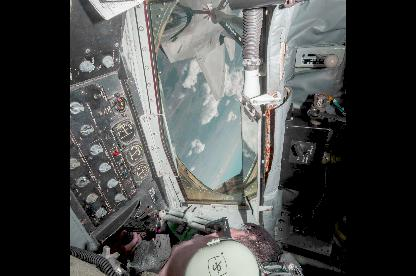F18: (159, 0, 244, 101)
